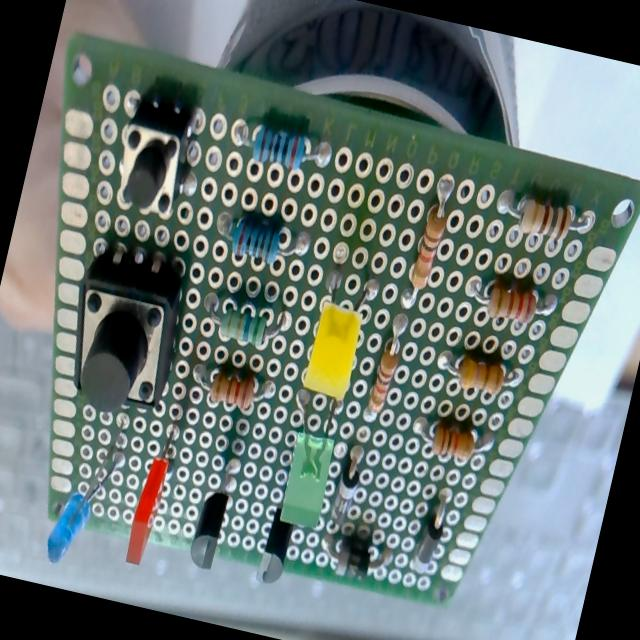diode: (399, 477, 460, 588), (307, 534, 400, 594), (319, 441, 377, 536)
led: (44, 408, 134, 574), (116, 410, 193, 578), (300, 252, 382, 402), (271, 392, 350, 536)
resistor: (224, 108, 351, 184), (398, 164, 460, 316), (487, 174, 604, 250), (453, 263, 570, 335), (203, 205, 316, 274), (195, 284, 299, 358), (403, 403, 508, 470), (430, 340, 531, 406), (183, 356, 284, 419), (360, 308, 410, 432)
switch: (52, 235, 195, 438), (98, 78, 212, 230)
transistor: (177, 450, 245, 579), (232, 513, 298, 603)
